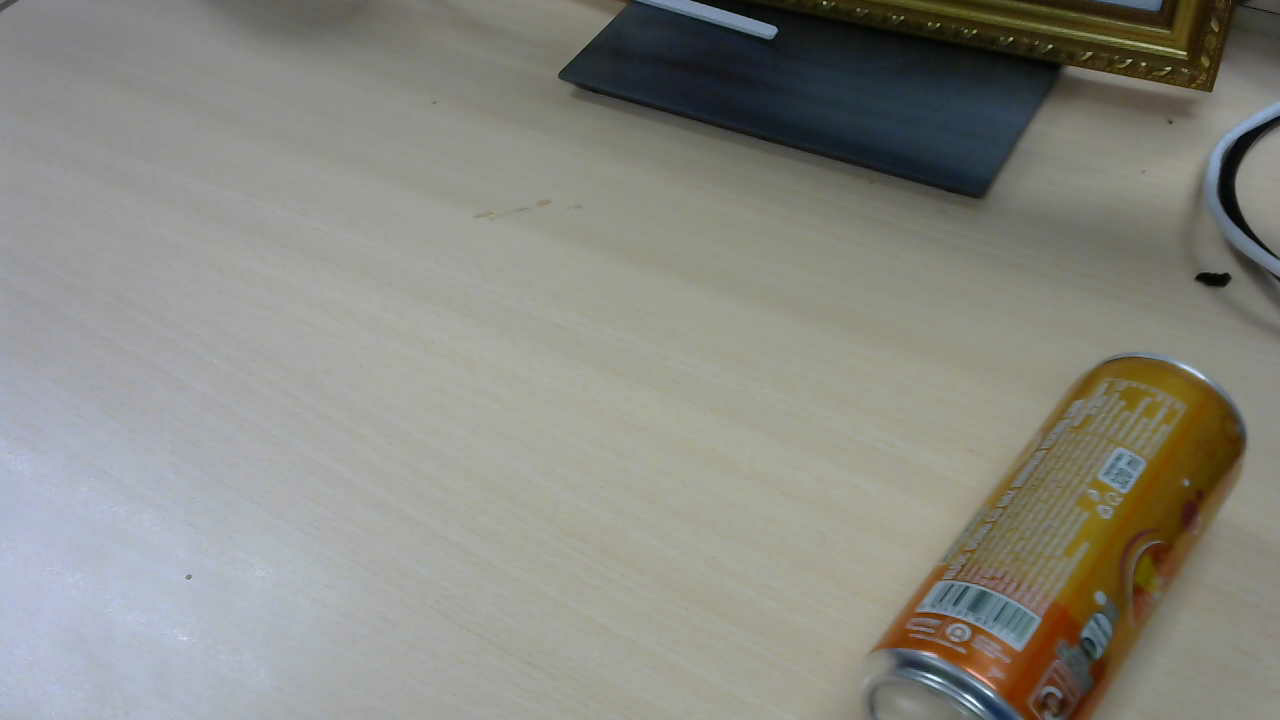Mirinda: (863, 357, 1250, 699)
